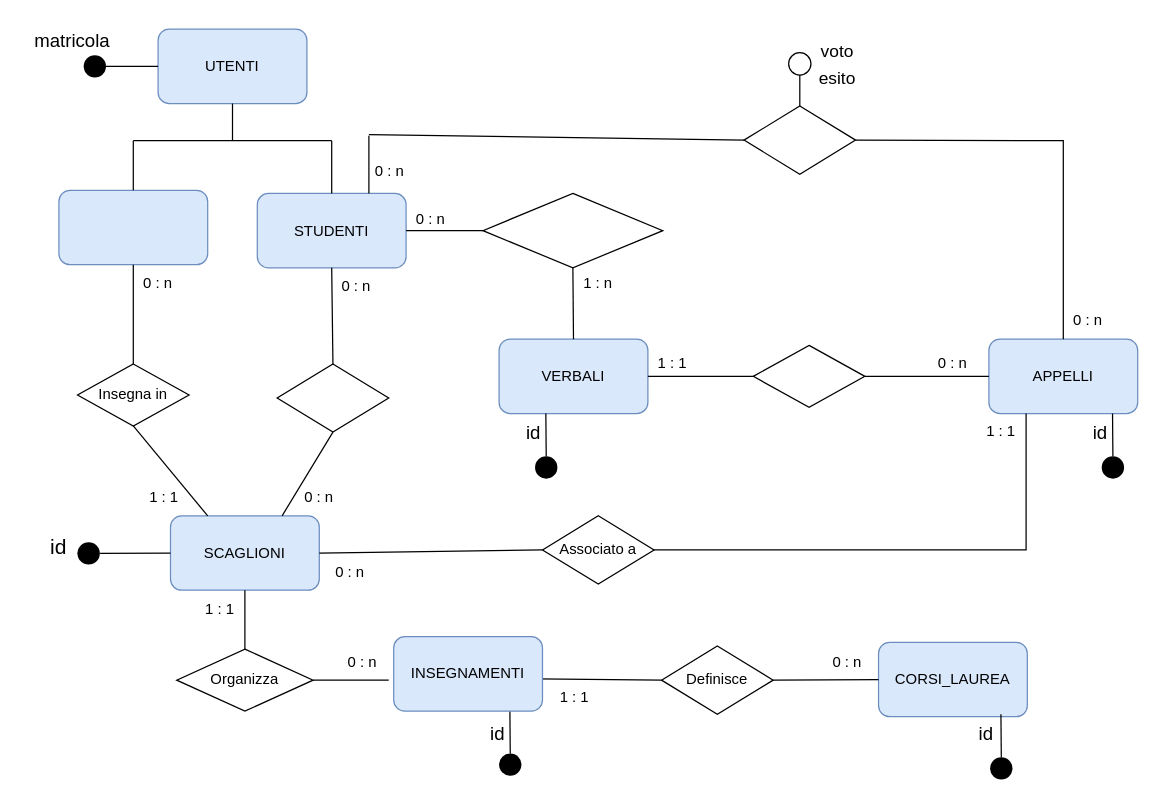
This 1159x801 diagram has some shape labels left out. Each missing label, with the centre of its shape:
DOCENTI: the point at 133,227
ESAMI: the point at 799,139
ISCRIZIONI: the point at 332,397
STUDENTI_VERBALI: the point at 572,230
Verbalizza: the point at 808,375
